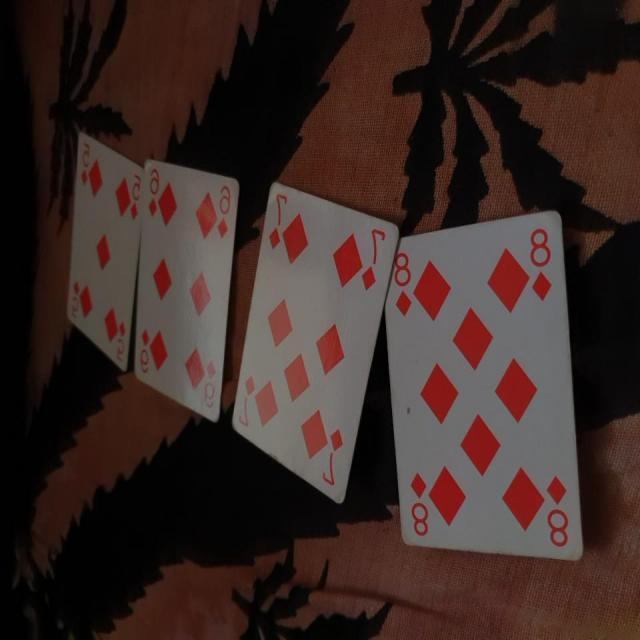5 of diamonds: (63, 130, 150, 374)
6 of diamonds: (130, 151, 238, 428)
7 of diamonds: (230, 183, 400, 506)
8 of diamonds: (383, 205, 589, 563)
